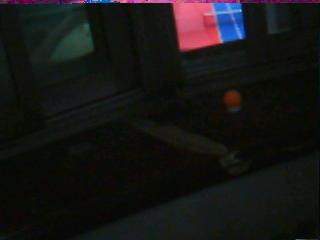oball: (224, 89, 241, 108)
